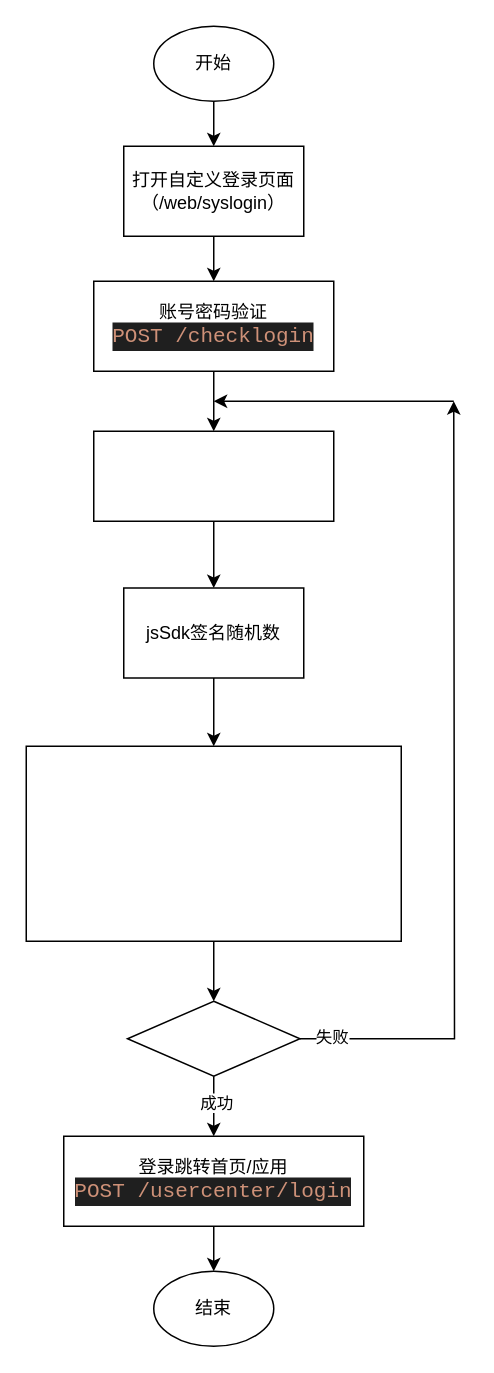
Some shapes in this 494 by 1373 pixel diagram are drawn without their labels. Here are the shapes that lost their labels. From the top down, the centre of each, then its label:
pixel 213 475: 获取随机数 GET /ukey/random
pixel 213 843: ukey登录 POST /ukey/login { "random": 上面获取的随机数, "signature": jsSdk签名 }
pixel 213 1038: errcode
